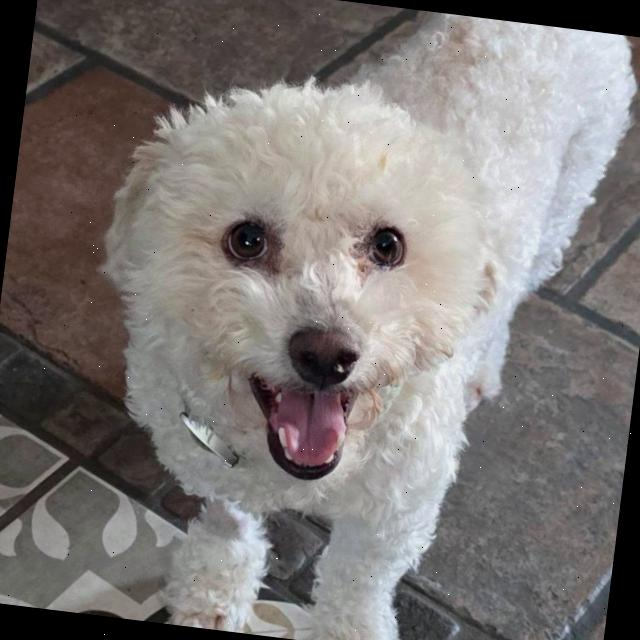Poodle_dog: (64, 44, 520, 526)
